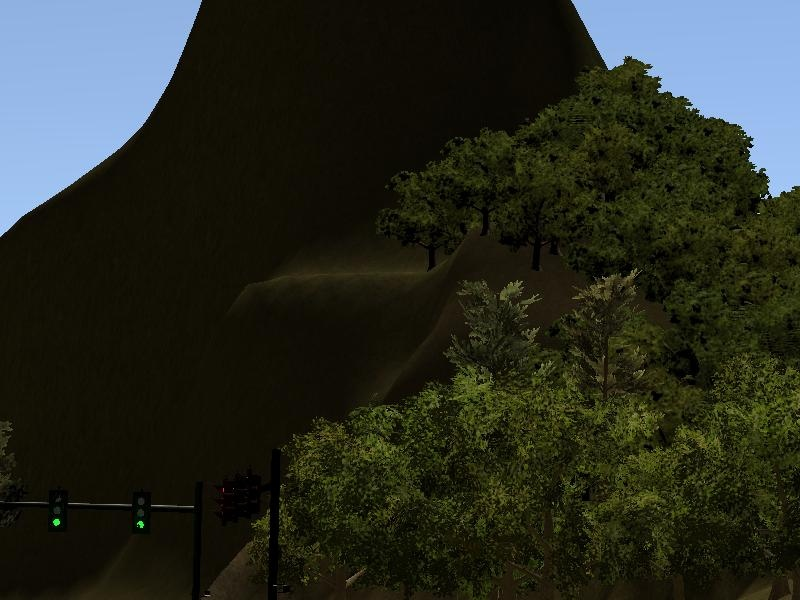GREEN: (128, 489, 154, 539), (45, 487, 69, 535)
